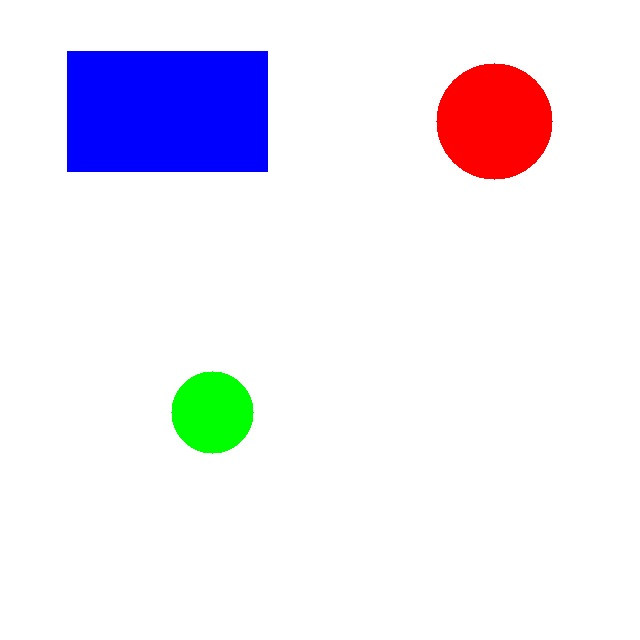cartao: (67, 51, 267, 171)
rosca_externa: (171, 371, 253, 453)
rosca_interna: (436, 63, 552, 179)
